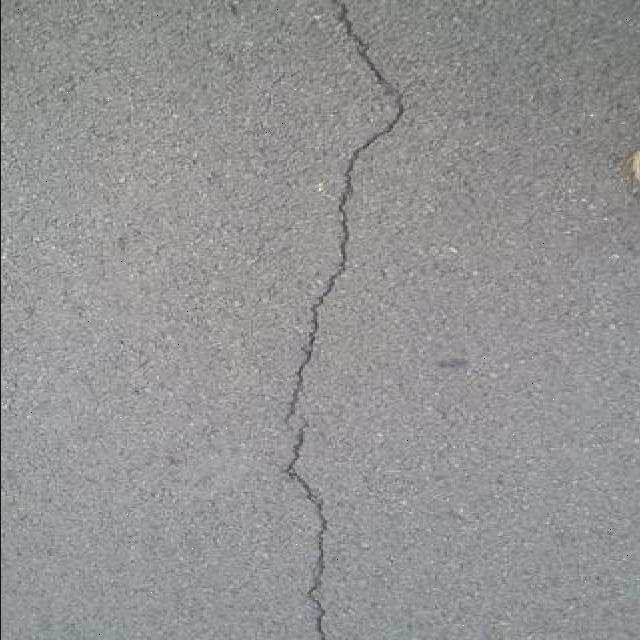crack: (280, 0, 408, 639), (316, 3, 406, 190), (297, 454, 332, 629)
dampens: (322, 162, 357, 306), (286, 412, 315, 490), (332, 3, 351, 27)
